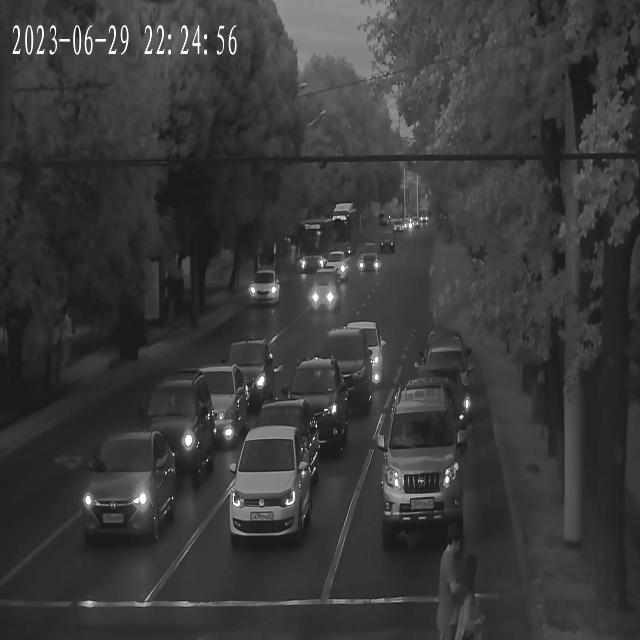Bus: (300, 218, 336, 273), (333, 204, 359, 257)
Car: (72, 432, 176, 544), (376, 393, 464, 525), (226, 426, 317, 544), (134, 378, 214, 486), (272, 355, 346, 448), (170, 366, 251, 444), (246, 404, 320, 468), (395, 376, 468, 438), (314, 332, 376, 401), (218, 339, 278, 409), (417, 349, 469, 399), (248, 273, 284, 310), (311, 278, 346, 314), (318, 252, 349, 282), (356, 245, 379, 273), (372, 234, 395, 256), (388, 219, 404, 233)
